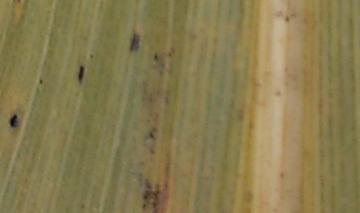tarspot: (127, 30, 141, 52), (75, 64, 87, 86), (142, 178, 150, 211), (7, 113, 21, 129), (152, 183, 160, 211), (165, 46, 175, 58), (278, 169, 286, 182), (152, 51, 159, 63), (272, 87, 281, 96), (147, 131, 154, 142), (88, 52, 96, 61), (284, 14, 290, 25), (38, 77, 45, 86), (79, 202, 86, 209)
